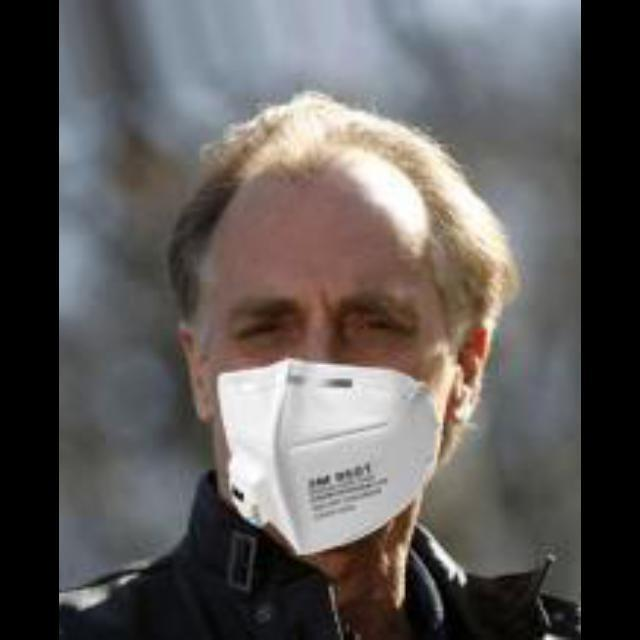suspicion: (143, 85, 515, 581)
